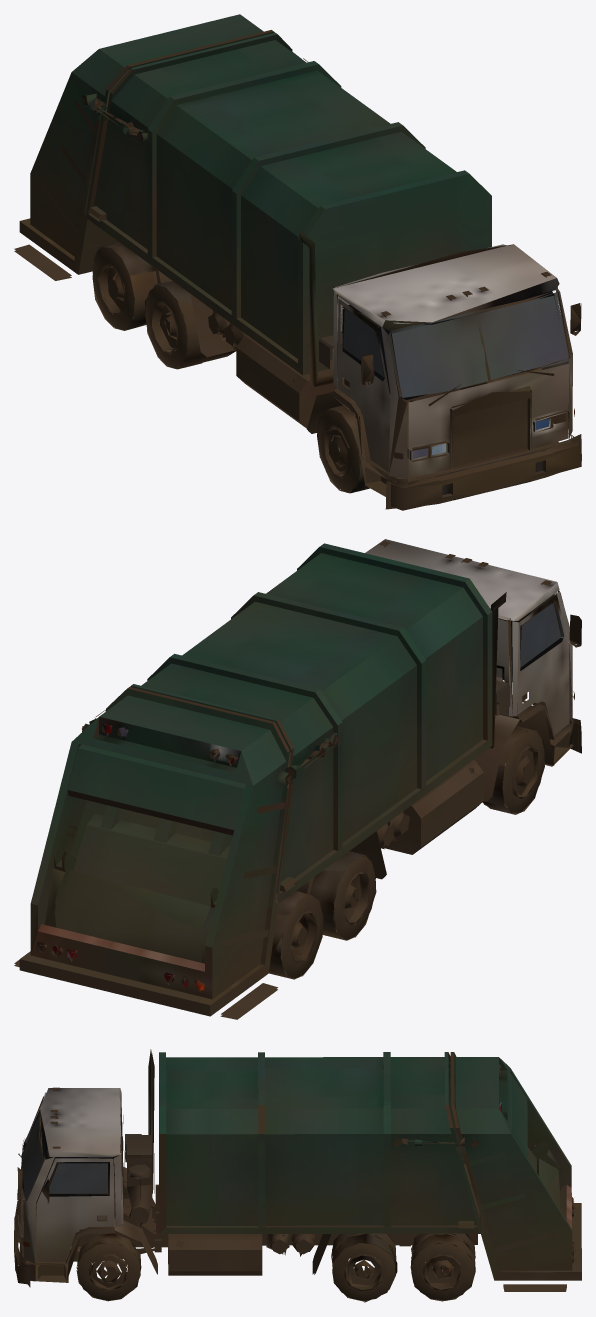
The model's file is pack-garbage-truck-L3.glb.
3 views of the same model, one above another, from view 1: azimuth 30°, elevation 25°; view 2: azimuth 150°, elevation 25°; view 3: azimuth 270°, elevation 25° (orthographic). The views are drawn at different scales.
Visible parts, largest first — view 1: body; view 2: body; view 3: body.
Part boxes in pixels (x1,y1,x2,y2): body: (14,14,581,510); body: (14,539,581,1019); body: (14,1049,581,1302).
Bounding box in the file's own units: 2.6 × 2.82 × 7.66.
1 material, 1 textured.
